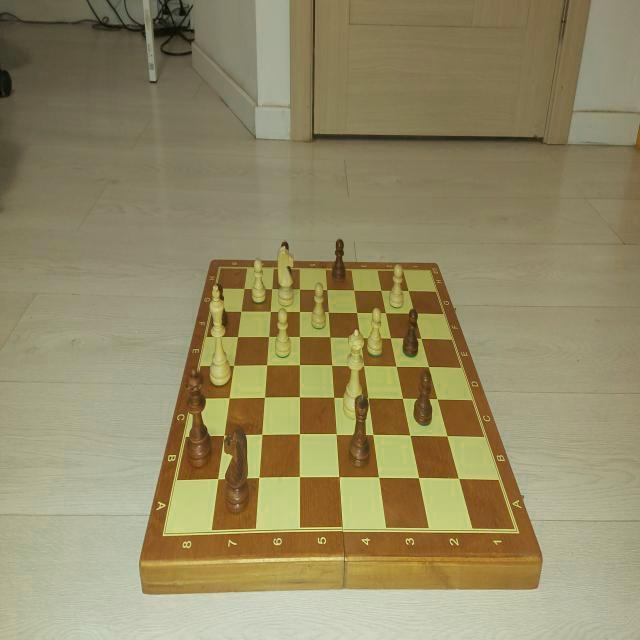chess-table-corners: (150, 518, 176, 554), (502, 516, 526, 546), (215, 262, 228, 282), (423, 264, 437, 282)
